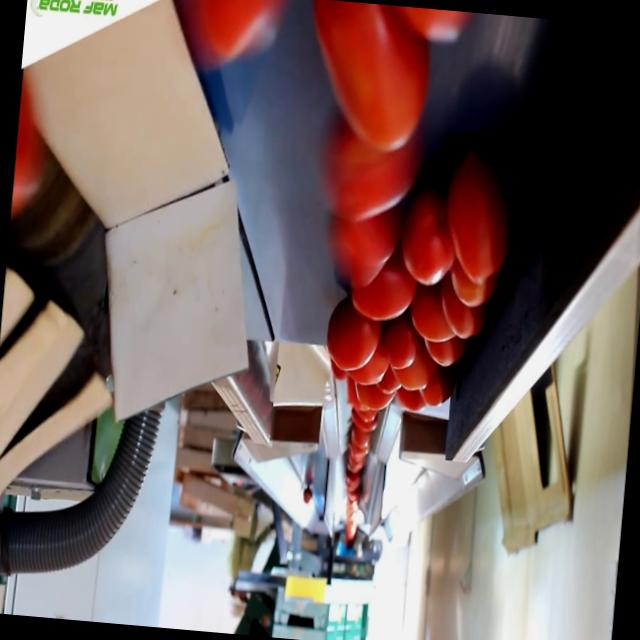Tomato: (299, 0, 434, 151), (440, 137, 516, 291), (314, 118, 419, 216), (8, 62, 55, 222), (182, 0, 280, 65), (399, 190, 458, 284), (317, 299, 382, 379), (324, 207, 396, 276), (347, 262, 419, 324), (409, 272, 456, 342), (438, 281, 486, 342), (404, 6, 468, 49), (450, 262, 494, 314), (389, 346, 434, 389), (423, 327, 466, 371), (381, 322, 417, 369), (418, 372, 452, 409), (352, 386, 392, 410), (398, 388, 428, 417), (350, 414, 380, 435), (347, 429, 371, 454), (301, 486, 313, 506)
